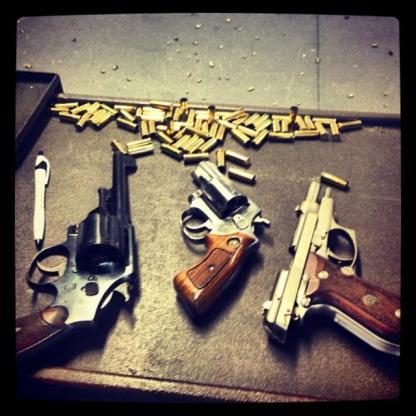weapon: (16, 149, 140, 367), (264, 180, 401, 357), (172, 159, 270, 313)
